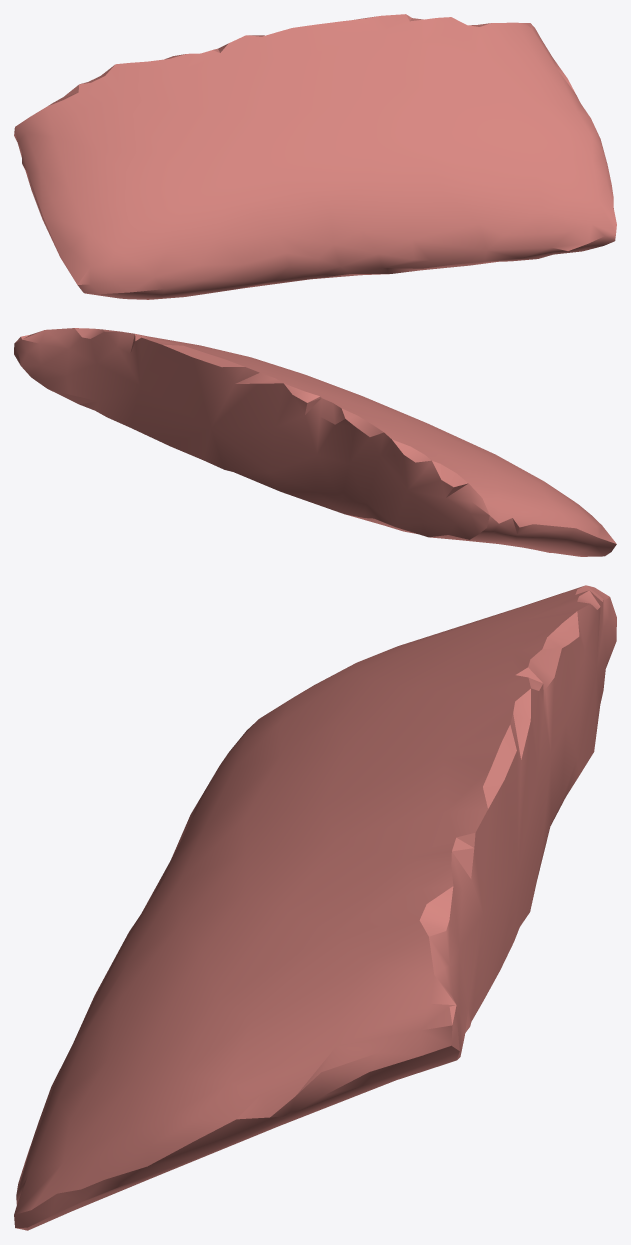
Rendered from fma54099-f_mm2239m.glb.
3 renders of one model, top to bottom at view 1: azimuth 30°, elevation 25°; view 2: azimuth 150°, elevation 25°; view 3: azimuth 270°, elevation 25°, orthographic. The views are drawn at different scales.
Visible parts, largest first — view 1: FMA54099-F_MM2239M; view 2: FMA54099-F_MM2239M; view 3: FMA54099-F_MM2239M.
Part boxes in pixels (x1,y1,x2,y2): FMA54099-F_MM2239M: [14, 14, 616, 299]; FMA54099-F_MM2239M: [14, 328, 616, 556]; FMA54099-F_MM2239M: [14, 585, 616, 1230].
Bounding box in the file's own units: 0.00827 × 0.00273 × 0.00441.
